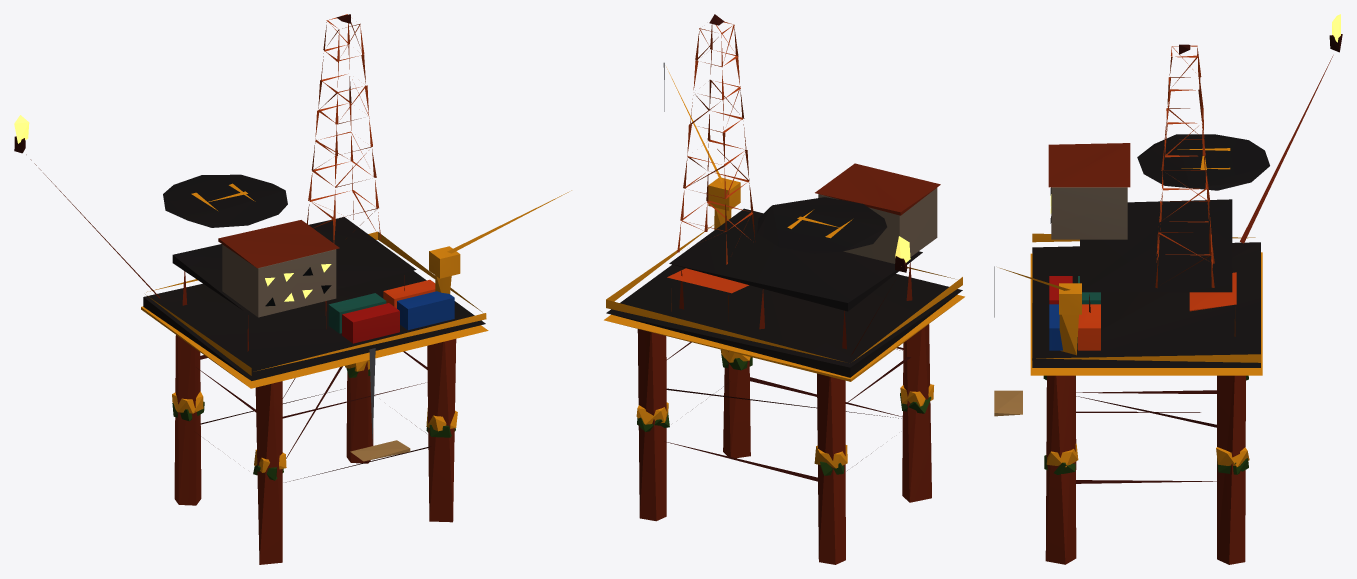
Rendered from tb_oil_rig.three-web-toon.lod25.glb.
The picture shows the model from 3 angles, left to right: view 1: azimuth 30°, elevation 25°; view 2: azimuth 150°, elevation 25°; view 3: azimuth 270°, elevation 25°; orthographic projection. The views are drawn at different scales.
Visible parts, largest first — view 1: oil_rig_body_lod; view 2: oil_rig_body_lod; view 3: oil_rig_body_lod.
Part boxes in pixels (left/top/right/bottom): oil_rig_body_lod: left=14, top=14, right=571, bottom=564; oil_rig_body_lod: left=604, top=14, right=964, bottom=564; oil_rig_body_lod: left=994, top=14, right=1342, bottom=564.
Size of the model in its own units: 50.94 by 57.6 by 36.63.
